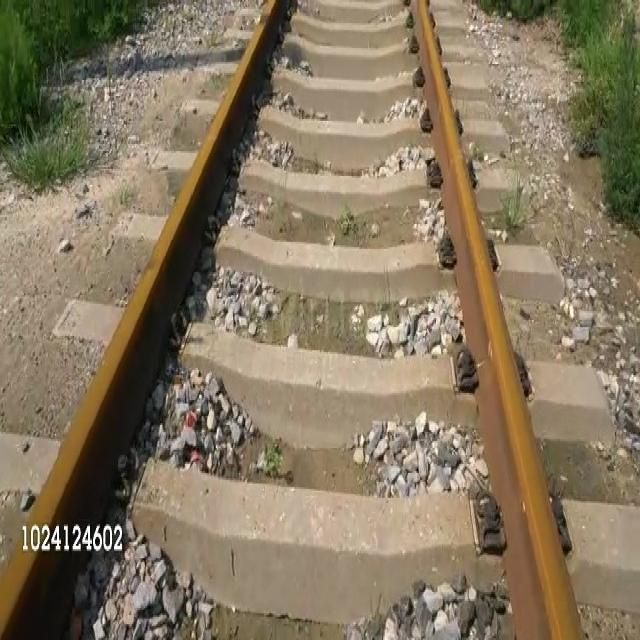Plant: (479, 0, 639, 221), (0, 0, 160, 141), (0, 113, 98, 183)
